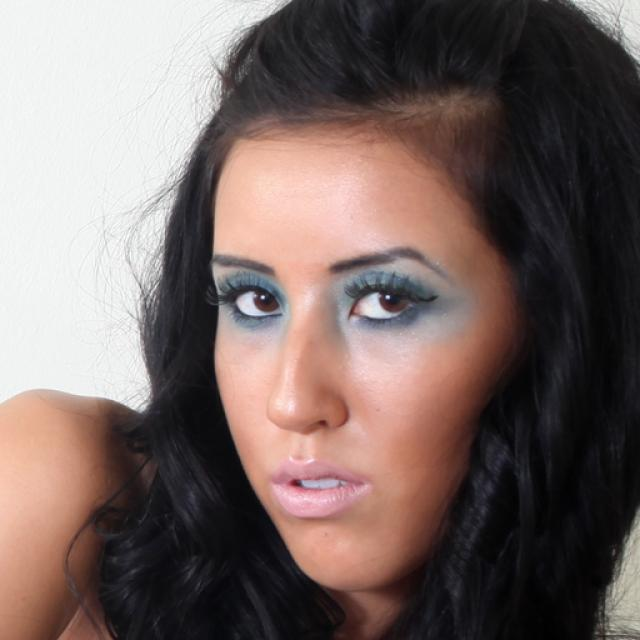neutral: (210, 98, 526, 590)
